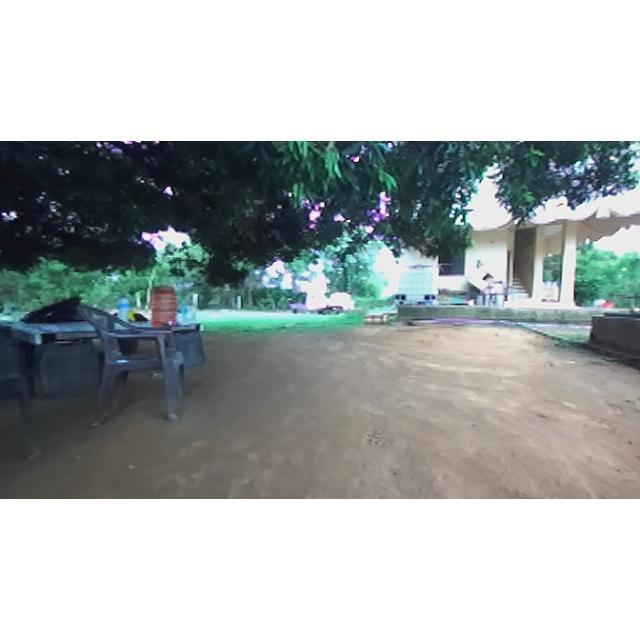tree: (2, 141, 640, 273), (8, 246, 104, 318), (232, 188, 284, 310), (126, 224, 184, 316)
